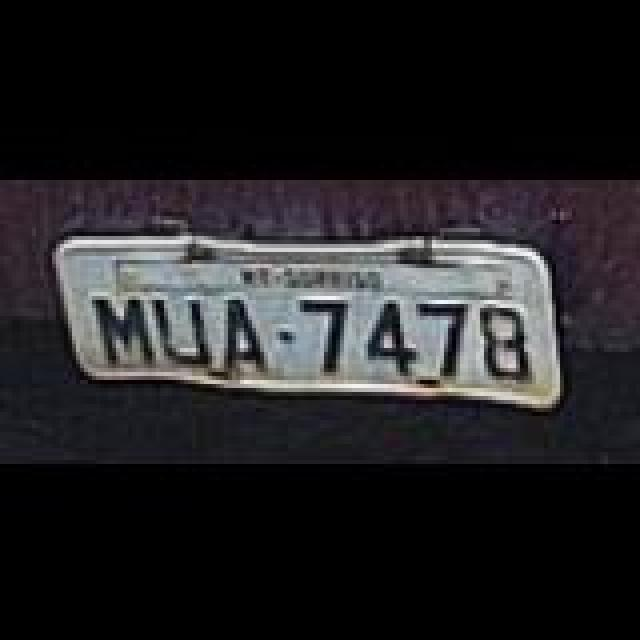4: (366, 298, 426, 374)
7: (418, 298, 478, 374), (298, 294, 358, 370)
A: (218, 294, 270, 370)
B: (478, 300, 538, 380)
M: (94, 292, 154, 364)
U: (148, 296, 212, 368)
